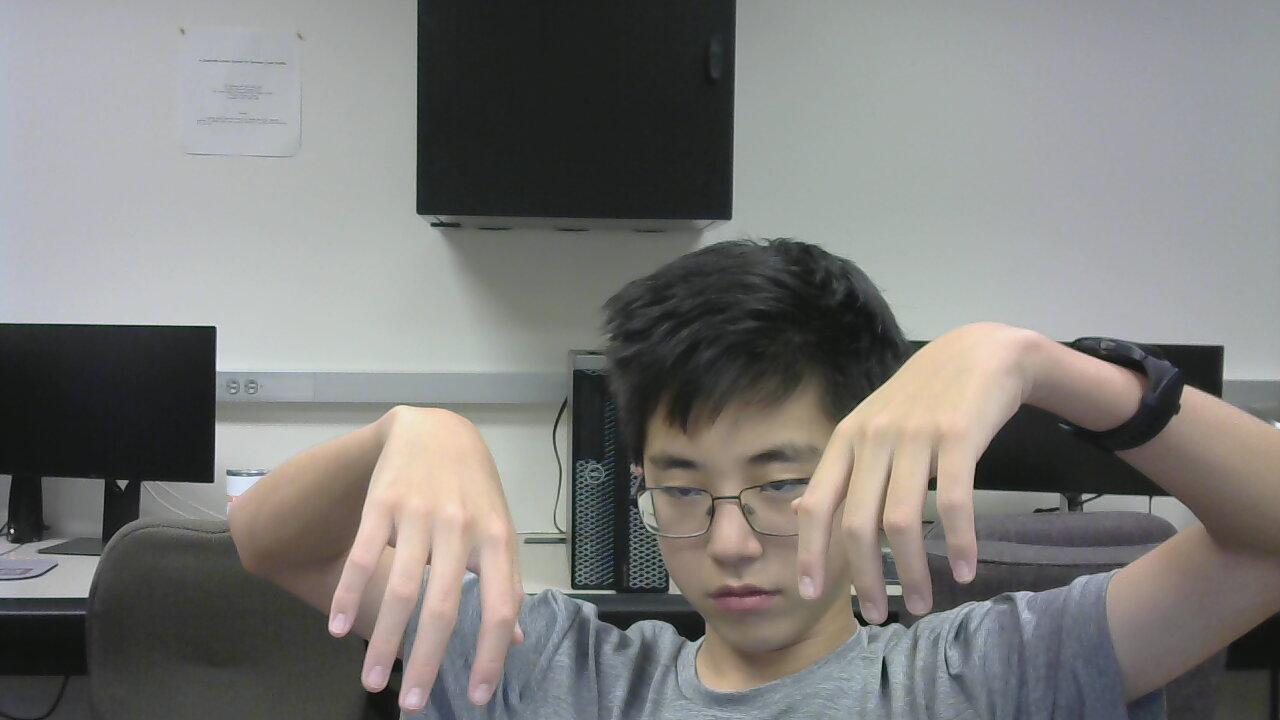hands: (302, 384, 580, 720), (784, 313, 1018, 636)
